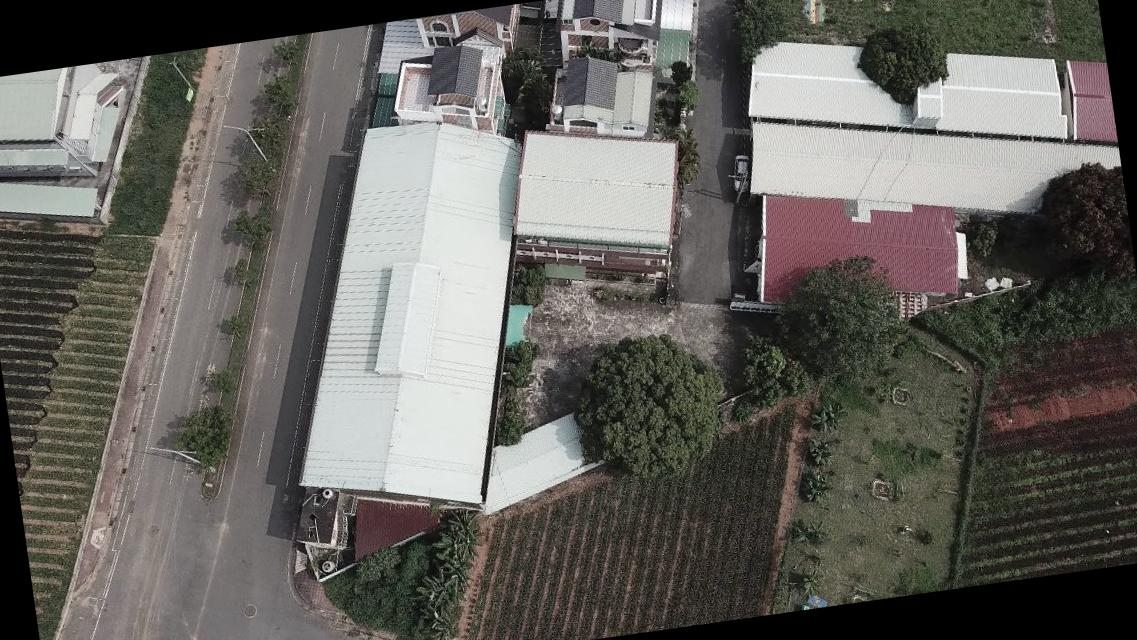vehicle: (730, 152, 755, 192)
